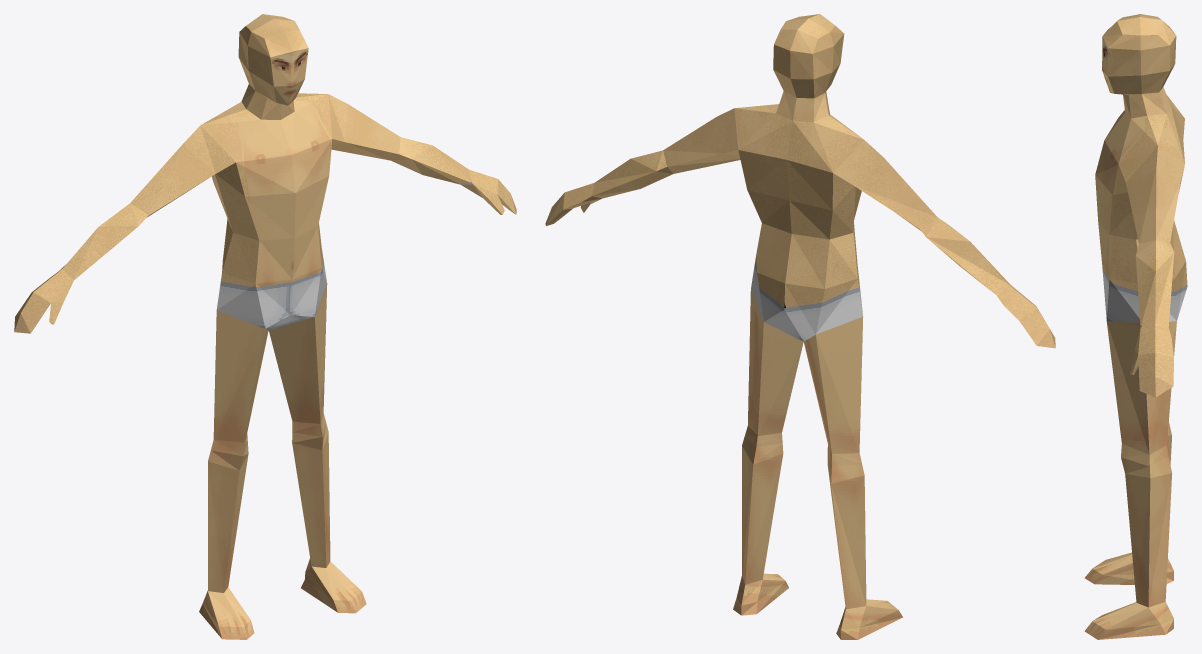
The model's file is Player.fbx.
3 renders of one model, left to right at view 1: azimuth 30°, elevation 25°; view 2: azimuth 150°, elevation 25°; view 3: azimuth 270°, elevation 25°, orthographic.
Parts seen in each view (by area): view 1: Body, Leg_Left, Leg_Right, Arm_Left, Head, Arm_Right, Foot_Right, Hand_Left, Foot_Left, Hand_Right; view 2: Body, Leg_Left, Leg_Right, Head, Arm_Left, Arm_Right, Foot_Left, Hand_Left, Foot_Right, Hand_Right; view 3: Leg_Right, Body, Arm_Right, Head, Hand_Right, Foot_Right, Foot_Left.
Part boxes in pixels (<box>): Body: <box>200,93,332,330</box>; Leg_Left: <box>208,310,268,592</box>; Leg_Right: <box>268,283,330,567</box>; Arm_Left: <box>60,125,235,279</box>; Head: <box>238,14,308,119</box>; Arm_Right: <box>328,94,471,184</box>; Foot_Right: <box>301,558,366,613</box>; Hand_Left: <box>14,268,73,333</box>; Foot_Left: <box>199,587,254,639</box>; Hand_Right: <box>461,169,516,214</box>; Body: <box>734,104,863,341</box>; Leg_Left: <box>804,317,866,609</box>; Leg_Right: <box>742,290,803,584</box>; Head: <box>773,14,844,122</box>; Arm_Left: <box>833,140,1009,294</box>; Arm_Right: <box>592,108,740,198</box>; Foot_Left: <box>836,599,902,639</box>; Hand_Left: <box>996,283,1055,348</box>; Foot_Right: <box>733,573,788,615</box>; Hand_Right: <box>545,183,602,225</box>; Leg_Right: <box>1106,321,1176,607</box>; Body: <box>1095,94,1187,322</box>; Arm_Right: <box>1118,146,1184,327</box>; Head: <box>1102,14,1176,118</box>; Hand_Right: <box>1130,322,1173,397</box>; Foot_Right: <box>1084,602,1173,639</box>; Foot_Left: <box>1085,552,1173,584</box>.
Bounding box in the file's own units: 161 × 180 × 28.62.
1 material, 1 textured.
